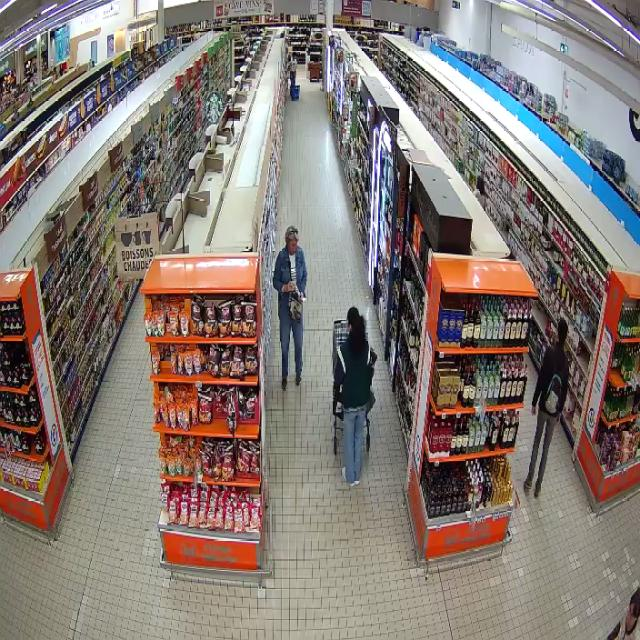article: (292, 282, 303, 304)
bags: (545, 373, 561, 411), (289, 299, 303, 322)
hands: (283, 281, 294, 293), (531, 406, 535, 414)
person: (524, 318, 568, 497), (334, 307, 375, 486), (272, 226, 306, 388)
